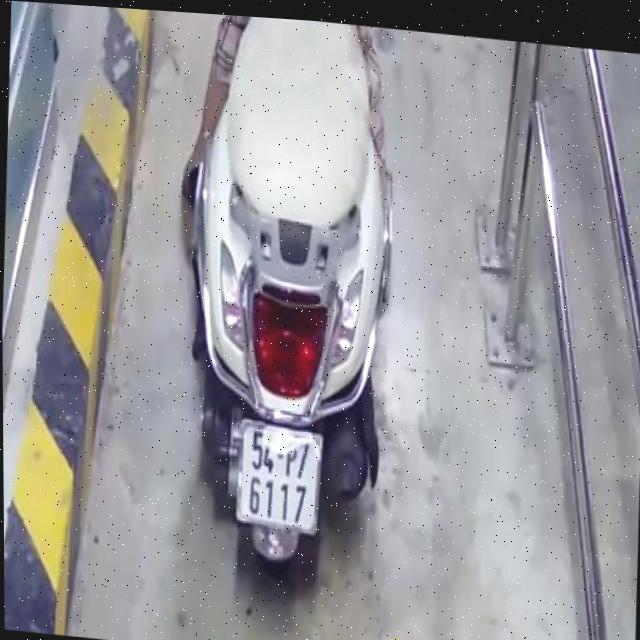motorcycle: (173, 12, 413, 597)
plate: (227, 414, 328, 542)
